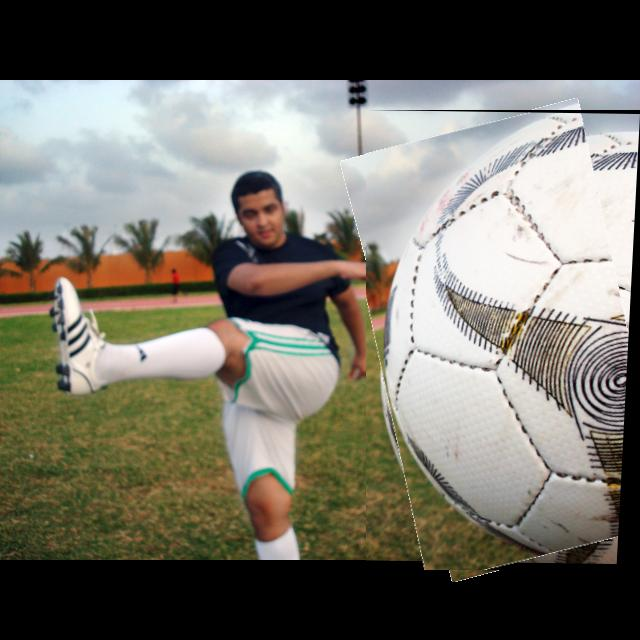Football: (366, 110, 640, 570)
